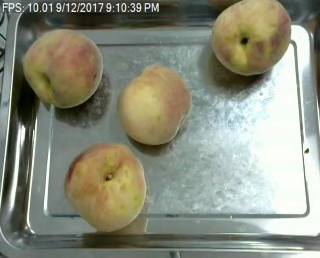Peach: (64, 141, 146, 233), (22, 29, 103, 110), (211, 0, 292, 76), (118, 64, 191, 145)
